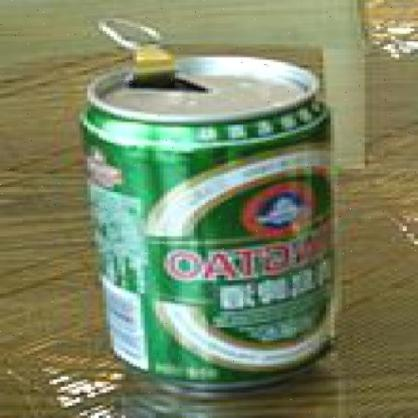can: (78, 56, 334, 390)
